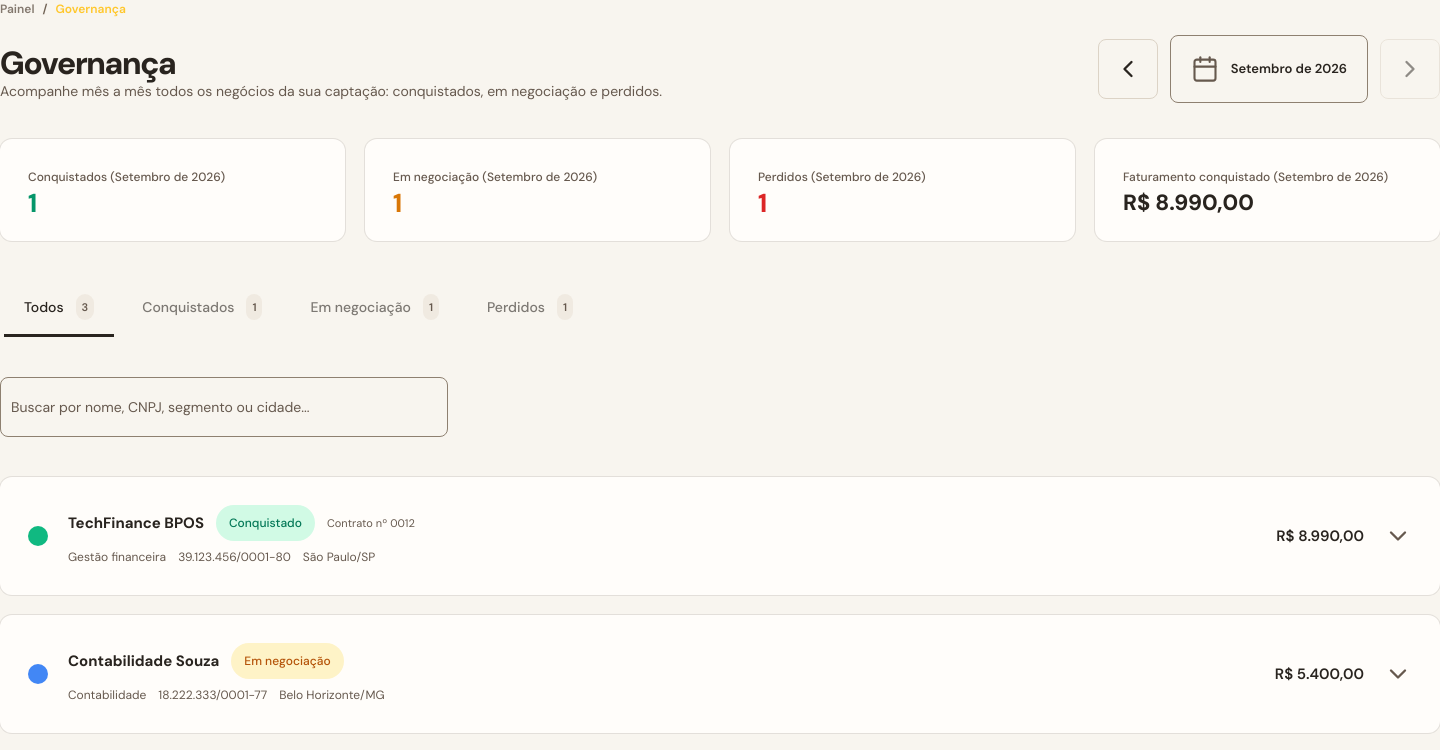
GovernancaPage › abre o seletor do mês com os 12 meses do ano e navega entre anos
Expected: the text "TechFinance BPOS" is shown, [68, 513, 204, 533]
Step 1. Click the button with test id "month-picker" → (1269, 69), box [1170, 35, 1368, 103]
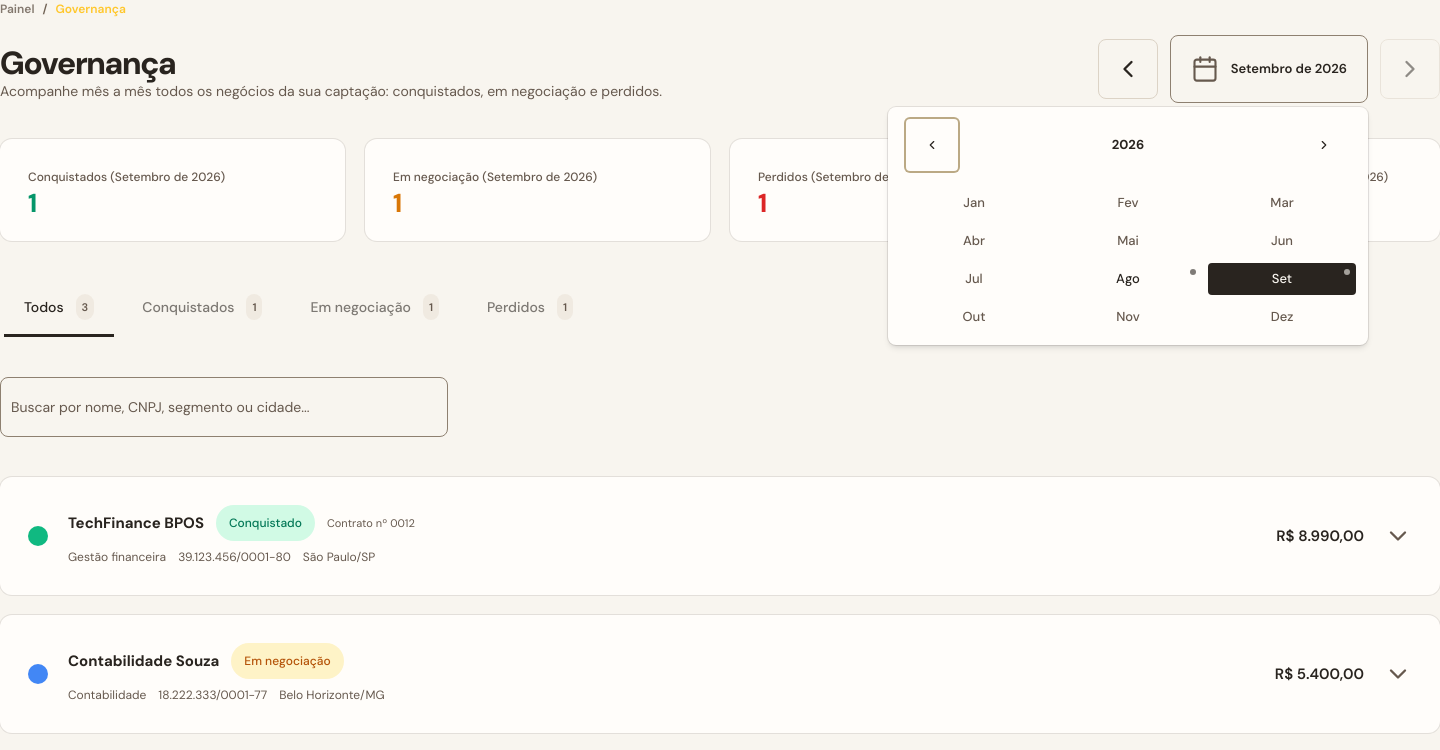
Result: the text with test id "picker-year" reads "2026" at [1112, 136, 1144, 153]
Step 2. Click the button with test id "year-prev" → (932, 145), box [906, 119, 958, 171]
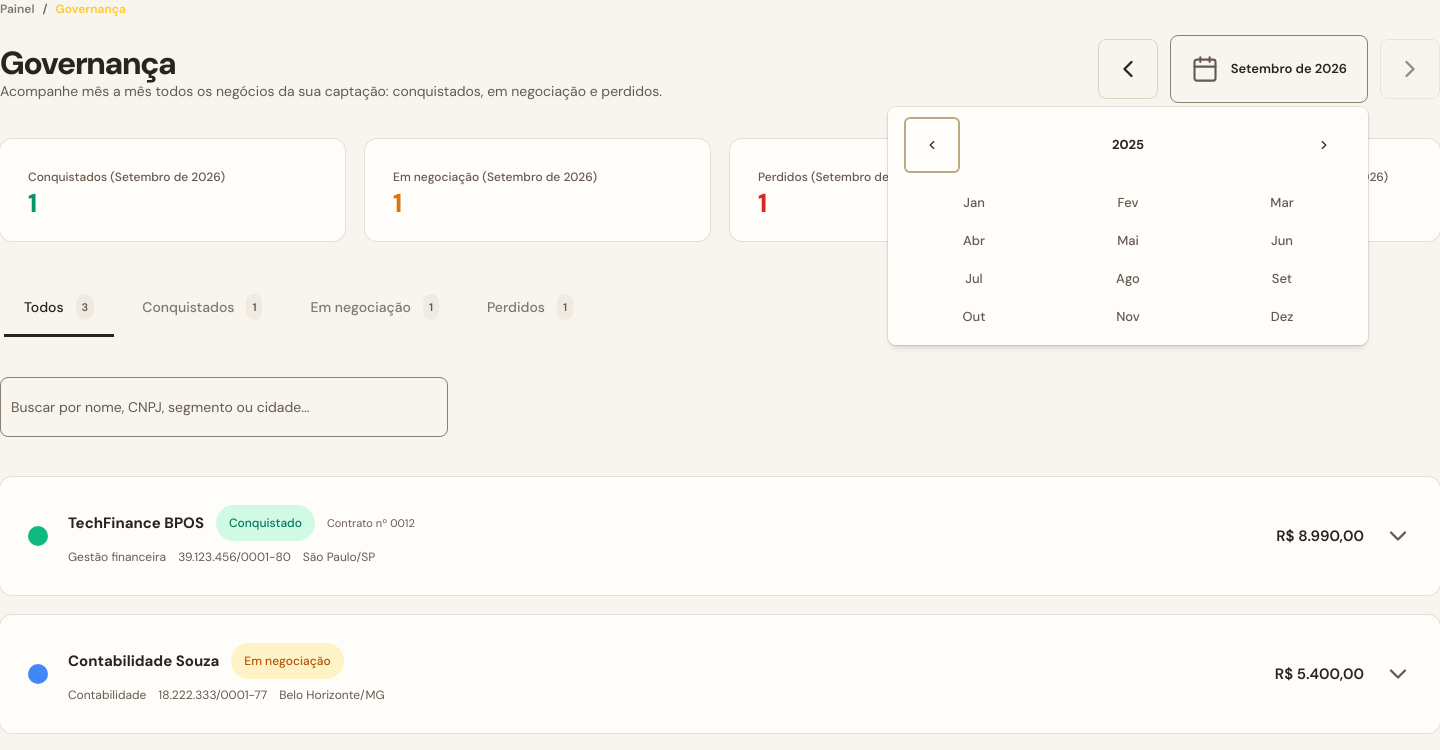
Result: the text with test id "picker-year" reads "2025" at [1112, 136, 1144, 153]
Step 3. Click the button with test id "month-option-5" → (1128, 241), box [1054, 225, 1202, 257]
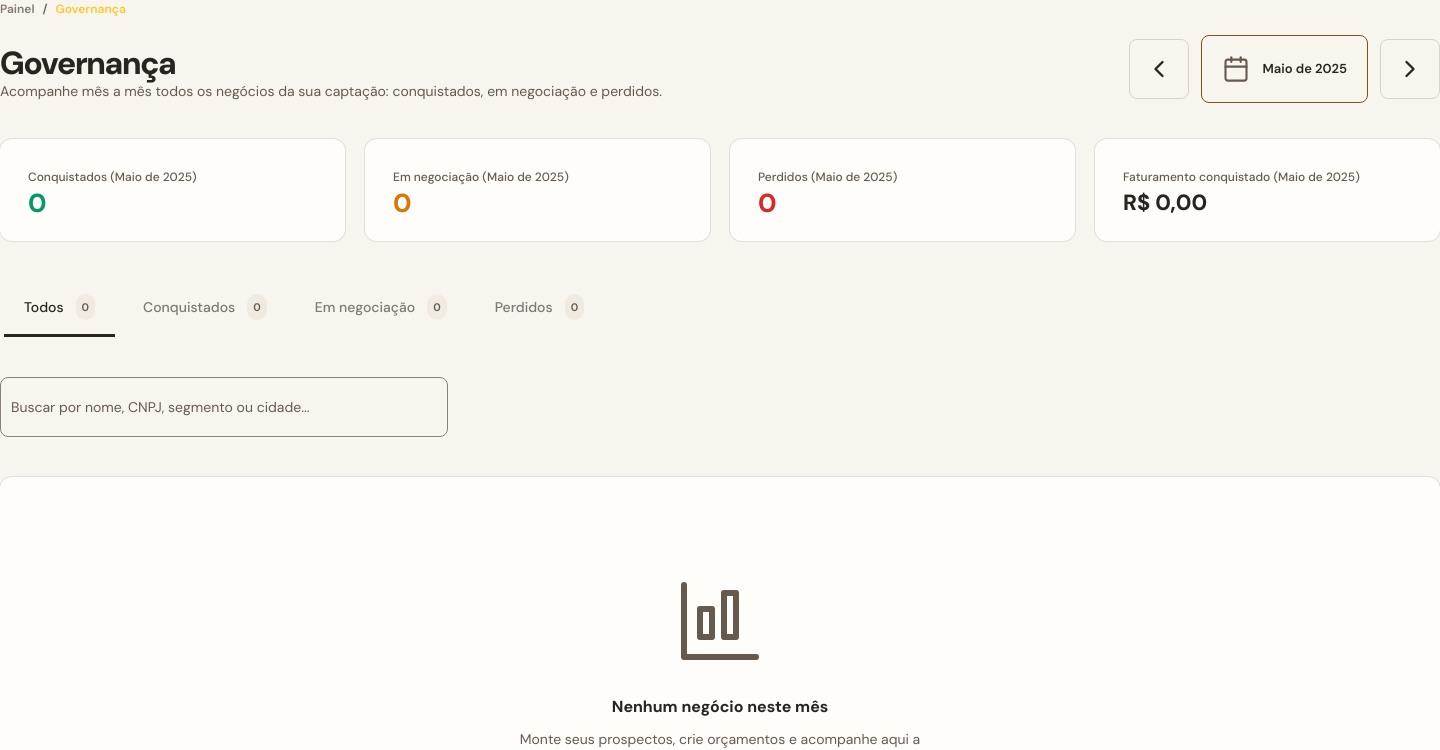
Result: the button "Maio de 2025" is shown at [1202, 35, 1368, 103]
Result: the button "TechFinance BPOS" is gone
